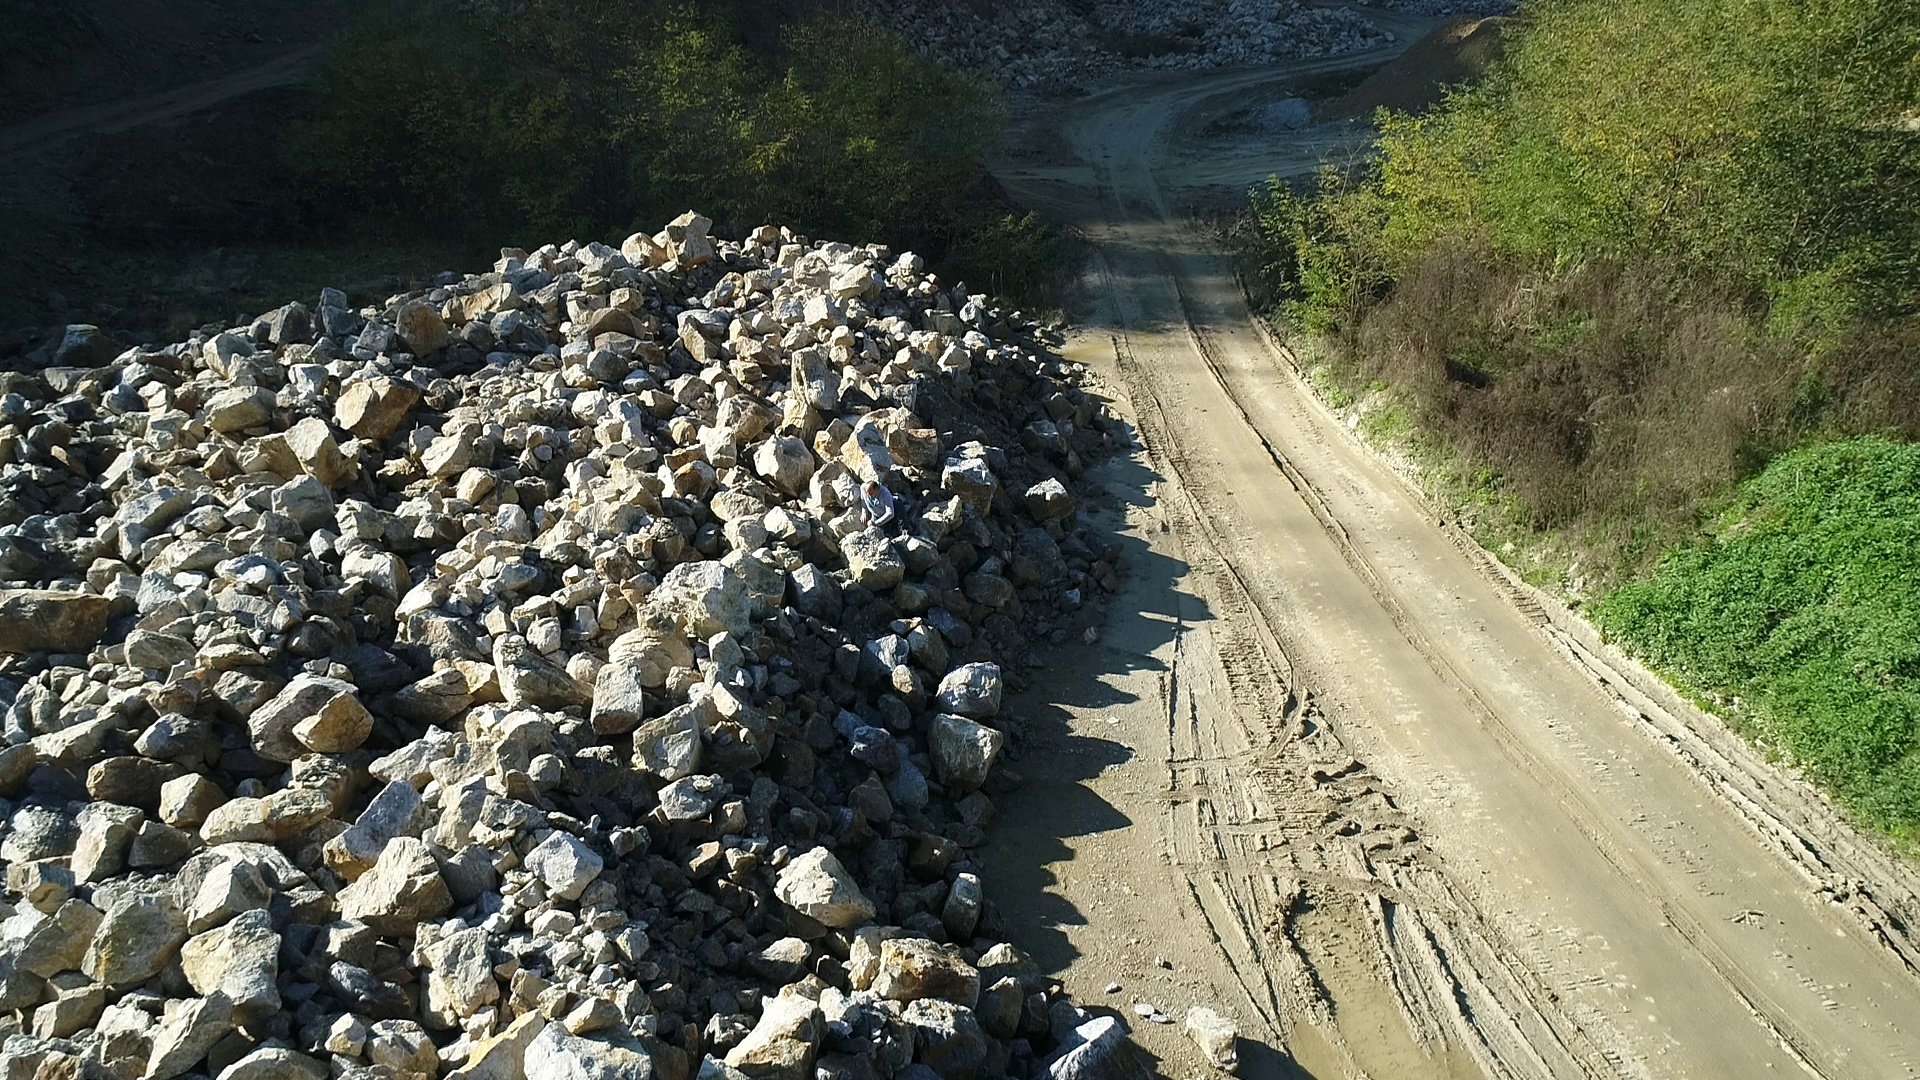not_defined: (857, 477, 898, 538)
